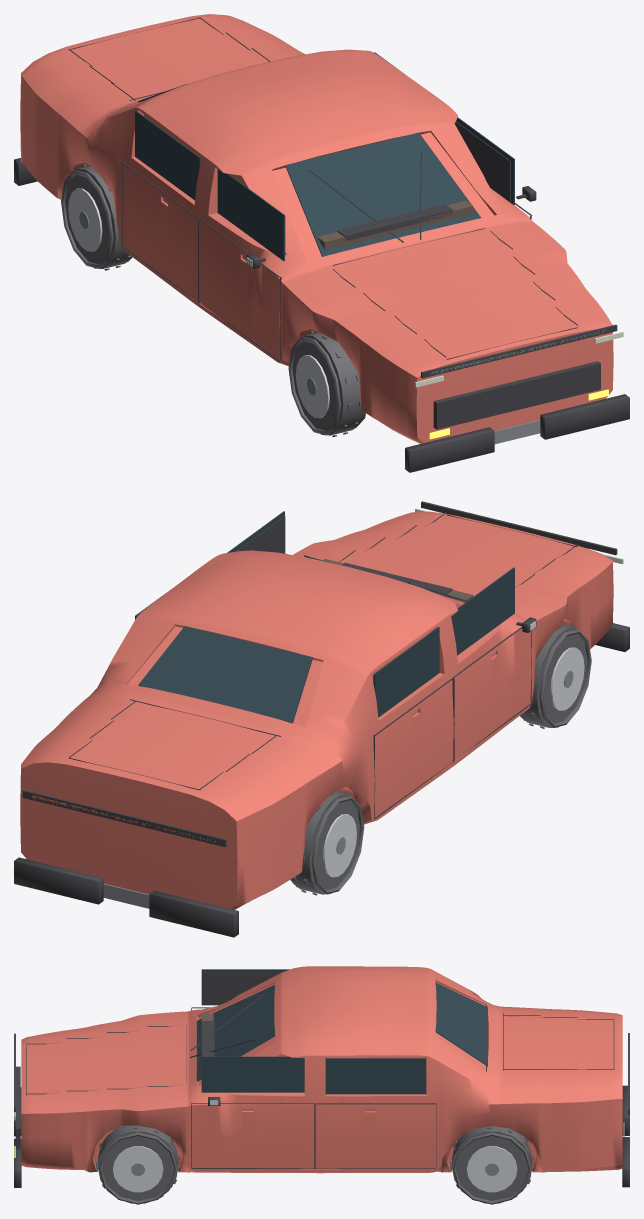
Rendered from Sedan_Mid_A_Red.fbx.
The picture shows the model from 3 angles, top to bottom: view 1: azimuth 30°, elevation 25°; view 2: azimuth 150°, elevation 25°; view 3: azimuth 270°, elevation 25°; orthographic projection. The views are drawn at different scales.
Parts seen in each view (by area): view 1: LOD0; view 2: LOD0; view 3: LOD0.
Part boxes in pixels (box(x1,y1,x2,y2)): LOD0: box(14, 14, 629, 472); LOD0: box(14, 501, 629, 937); LOD0: box(14, 966, 629, 1204).
Size of what is drawn, in the model's own units: 204 by 144 by 491.
